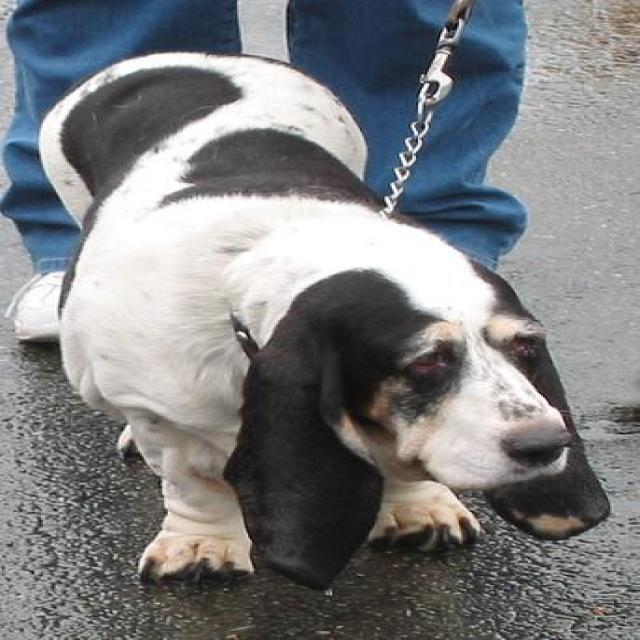basset: (28, 46, 610, 589)
